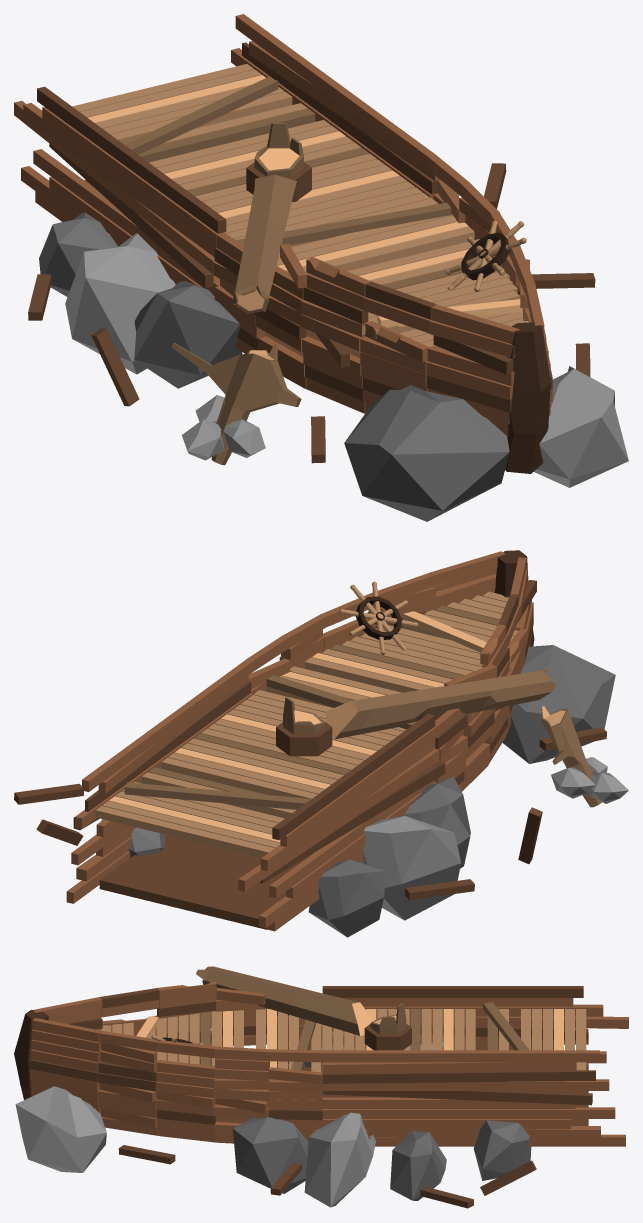
File: shipwreck.fbx
The picture shows the model from 3 angles, top to bottom: view 1: azimuth 30°, elevation 25°; view 2: azimuth 150°, elevation 25°; view 3: azimuth 270°, elevation 25°; orthographic projection. The views are drawn at different scales.
Parts seen in each view (by area): view 1: Walls, Rocks, Cube.001, pillar, Front, Sail, Plank.002, rudder, Plank.001; view 2: Walls, Cube.001, Rocks, Plane, pillar, Plank.002, rudder, Sail, Plank.001, Front; view 3: Walls, Rocks, Cube.001, pillar, Plank.001, Front, Plane.
Boxes of the visible parts, bbox=[...] form: Walls: bbox=[14, 14, 552, 435]; Rocks: bbox=[39, 193, 628, 521]; Cube.001: bbox=[72, 64, 529, 356]; pillar: bbox=[232, 123, 311, 313]; Front: bbox=[505, 322, 550, 473]; Sail: bbox=[172, 342, 301, 465]; Plank.002: bbox=[28, 274, 325, 463]; rudder: bbox=[445, 220, 526, 291]; Plank.001: bbox=[484, 163, 595, 376]; Walls: bbox=[66, 551, 536, 931]; Cube.001: bbox=[95, 591, 517, 857]; Rocks: bbox=[101, 645, 628, 937]; Plane: bbox=[99, 728, 463, 929]; pillar: bbox=[276, 669, 555, 756]; Plank.002: bbox=[404, 727, 606, 900]; rudder: bbox=[339, 581, 418, 654]; Sail: bbox=[541, 705, 601, 807]; Plank.001: bbox=[14, 783, 83, 845]; Front: bbox=[494, 550, 534, 646]; Walls: bbox=[30, 981, 628, 1146]; Rocks: bbox=[15, 1029, 531, 1207]; Cube.001: bbox=[96, 1002, 586, 1079]; pillar: bbox=[196, 966, 411, 1050]; Plank.001: bbox=[118, 1145, 536, 1208]; Front: bbox=[14, 1009, 48, 1099]; Plane: bbox=[156, 1066, 588, 1125].
Size of the model in its own units: 1286 by 524 by 1839.
